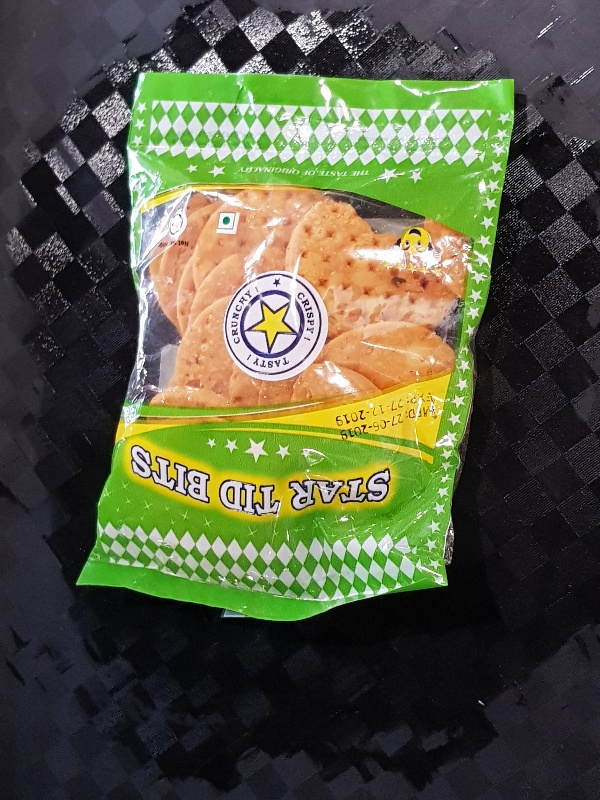Star Tidbits 'O' Ring: (74, 64, 514, 628)
